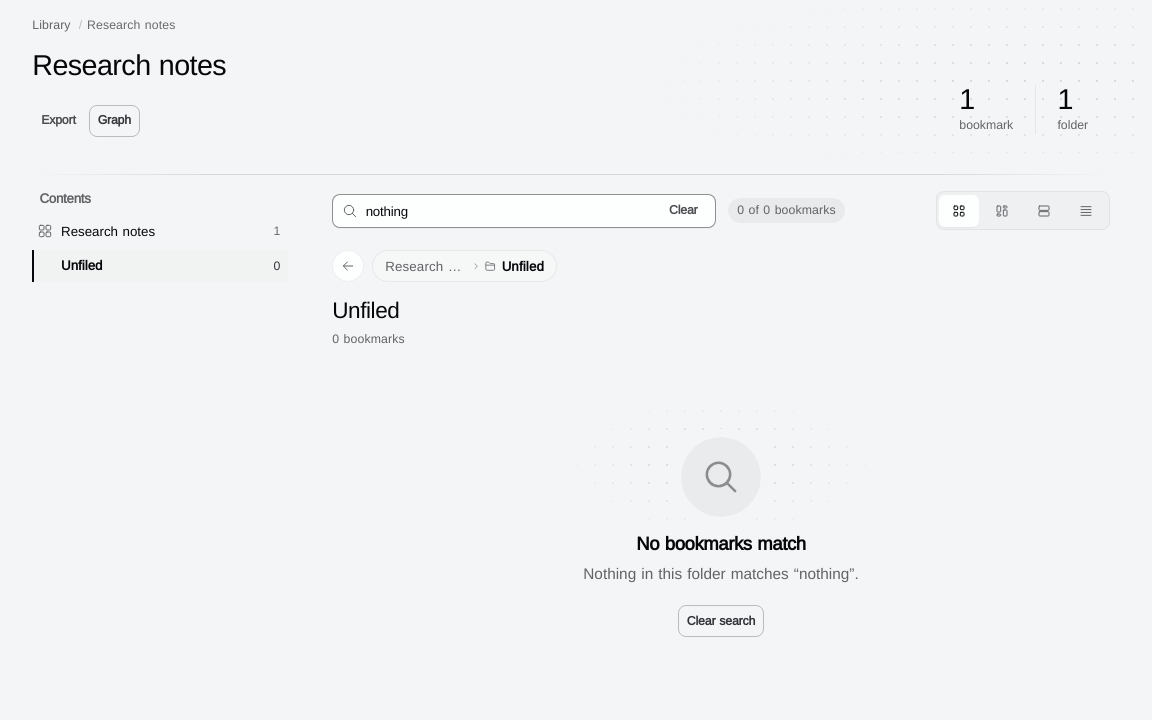
Scenario: public Collection page folder navigation › clears the search from the filter-empty state and keeps the folder
This screenshot has width=1152, height=720.
Click the button "Clear search".
click(721, 621)  # box [678,605,764,637]
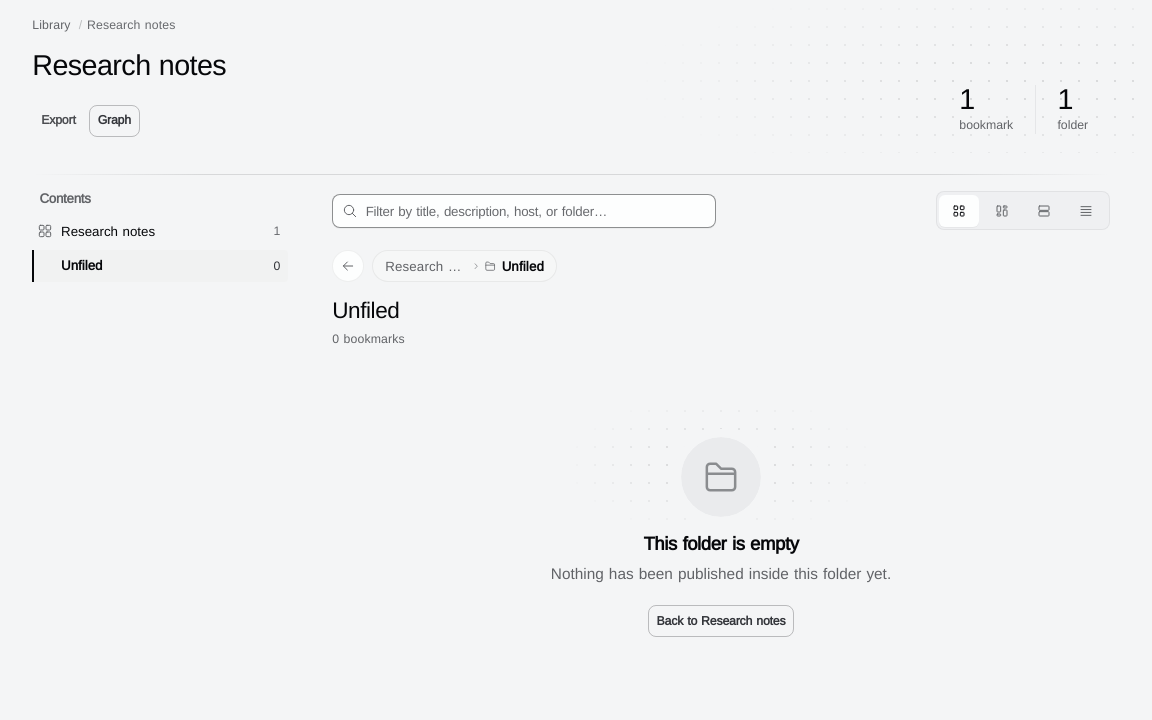
Now the text "This folder is empty" is shown, box [644,533,798,555]
